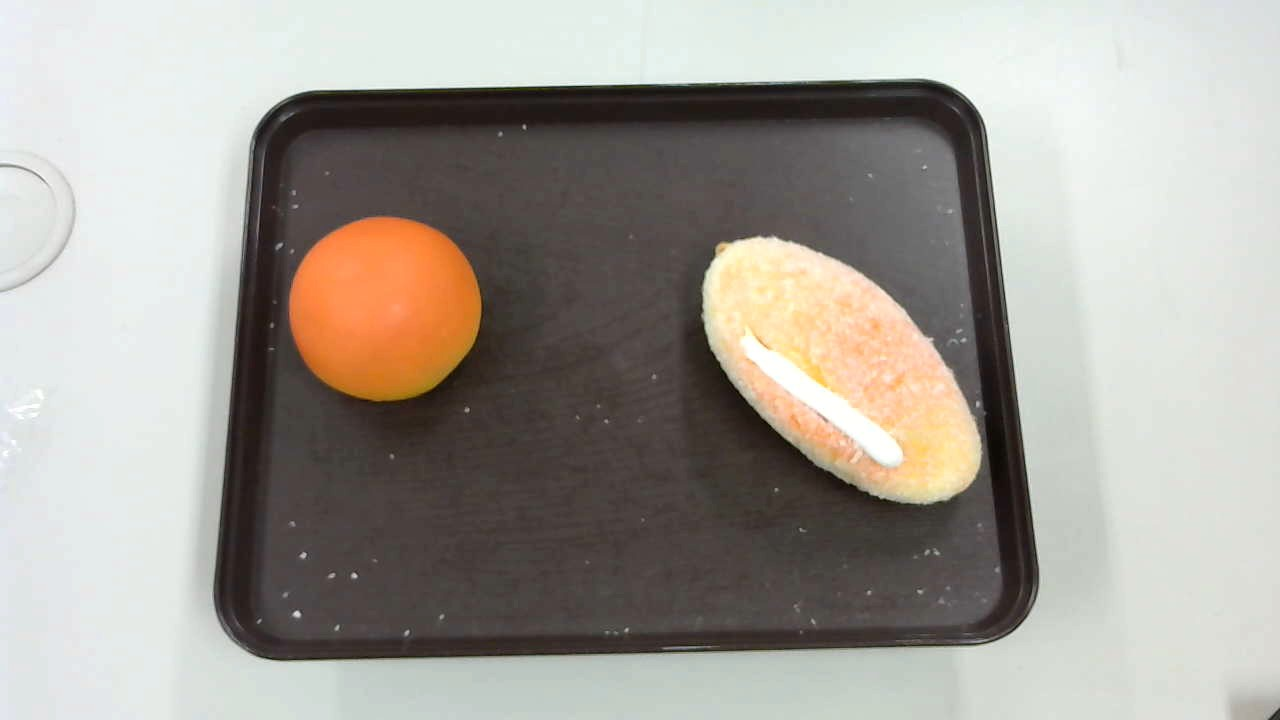bun: (288, 216, 481, 400)
coconut: (701, 235, 982, 504)
